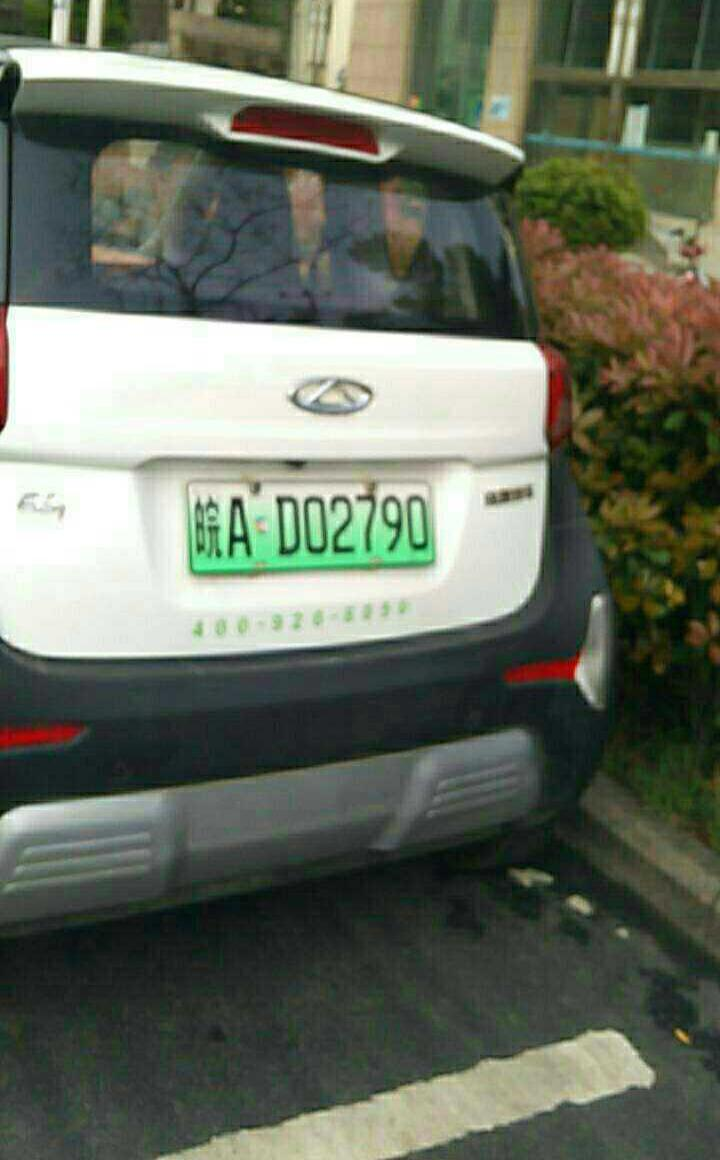car_green: (182, 475, 443, 573)
